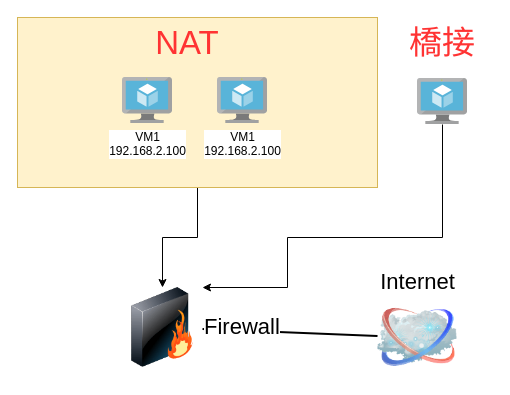
The diagram is 510 pixels wide and 395 high, and some of its shapes have lost their labels. The shapes that lost their labels are listed below. From the top down, each one's box as (x1, y1, x2, y2) in pixels, then its label:
(16, 16, 378, 188): Host 10.1.2.100
(417, 78, 467, 124): VM3 10.1.2.101
